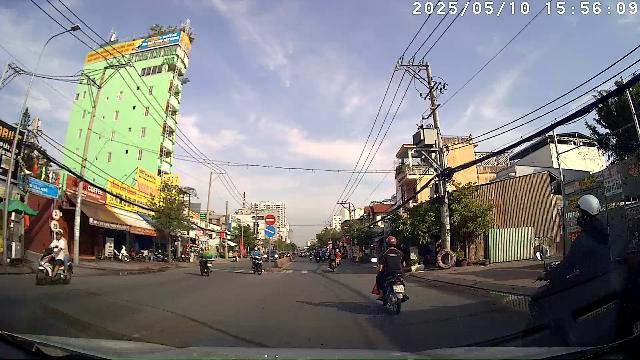102-cam-di-nguoc-chieu: (264, 214, 276, 225)
302a-huong-phai-di-vong-chuong-ngai-vat-1: (264, 226, 276, 237)
